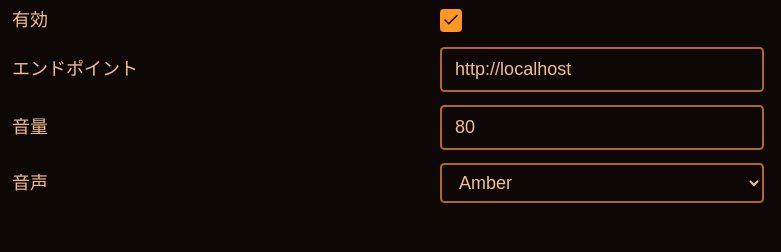
Test case: a failed save on a string field surfaces the error and reverts the draft
Replace the text in the field labelled "エンドポイント" with "http://bad" at (602, 70), box x1=440 y1=47 x2=764 y2=92
Then press Enter
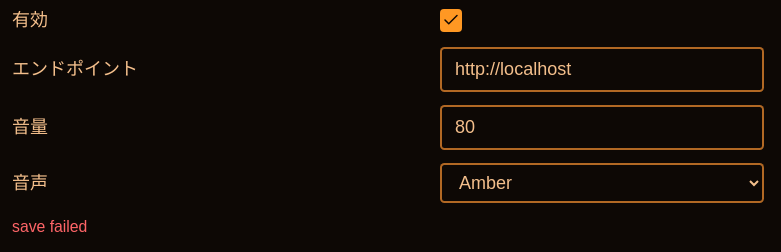
Result: the text "save failed" is shown at x1=12 y1=218 x2=87 y2=235
